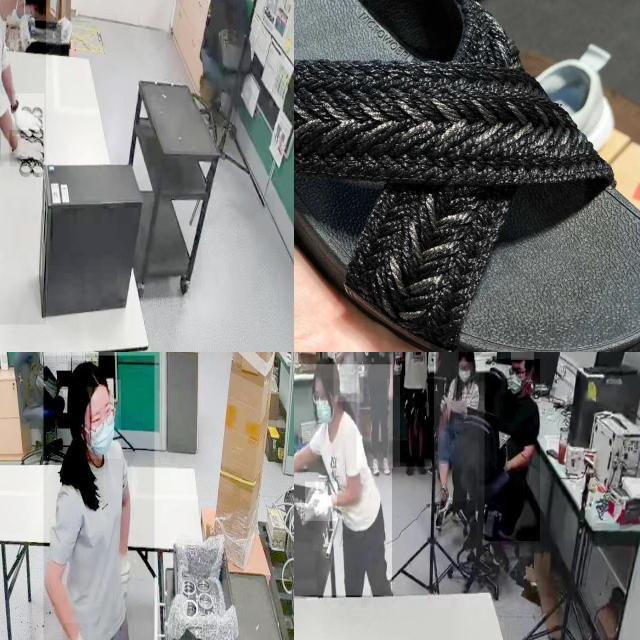Sandals: (294, 0, 640, 352)
face_mask: (79, 379, 121, 458), (0, 0, 40, 43), (506, 358, 528, 401), (312, 390, 334, 428), (459, 362, 471, 388)
glasses: (91, 407, 117, 437)
hand_glove: (12, 94, 44, 136), (305, 482, 337, 522), (10, 130, 44, 167), (63, 623, 88, 640)
hand_noglove: (387, 378, 394, 401), (398, 361, 406, 377)
head_nohelmet: (68, 361, 108, 387), (313, 356, 339, 379), (511, 352, 534, 360), (458, 352, 475, 362)
person: (43, 355, 154, 640), (294, 364, 392, 596), (0, 0, 46, 325), (484, 359, 540, 542), (436, 352, 479, 502), (356, 352, 400, 469), (393, 352, 434, 467), (333, 352, 363, 402)
shoes: (414, 451, 430, 478), (403, 452, 415, 479), (368, 456, 382, 477), (382, 452, 392, 477)
